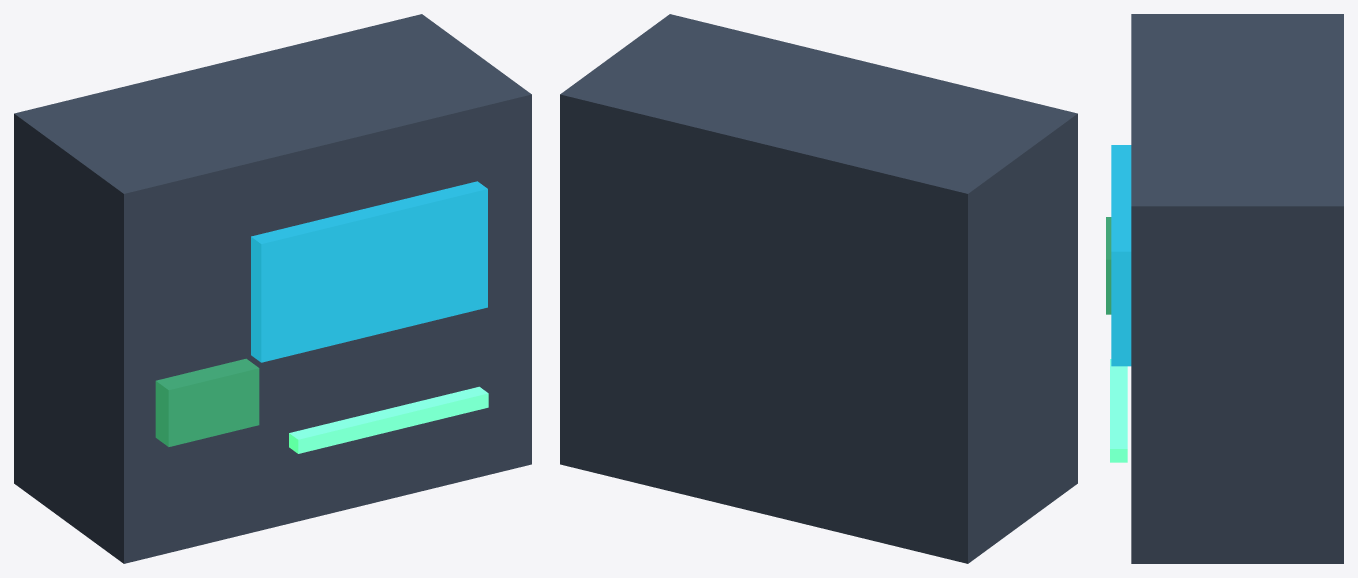
Rendered from public_data_node.glb.
3 renders of one model, left to right at view 1: azimuth 30°, elevation 25°; view 2: azimuth 150°, elevation 25°; view 3: azimuth 270°, elevation 25°, orthographic. The views are drawn at different scales.
Parts seen in each view (by area): view 1: public_data_node_body, public_data_node_screen, public_data_node_port, public_data_node_status; view 2: public_data_node_body; view 3: public_data_node_body, public_data_node_screen, public_data_node_status, public_data_node_port.
Boxes of the visible parts, <box> form: public_data_node_body: <box>14,14,531,563</box>; public_data_node_screen: <box>251,181,487,362</box>; public_data_node_port: <box>155,358,259,446</box>; public_data_node_status: <box>289,386,488,453</box>; public_data_node_body: <box>560,14,1077,563</box>; public_data_node_body: <box>1131,14,1343,563</box>; public_data_node_screen: <box>1111,145,1131,366</box>; public_data_node_status: <box>1110,359,1127,462</box>; public_data_node_port: <box>1106,217,1111,314</box>.
Bounding box in the file's own units: 0.9 × 0.78 × 0.47.
